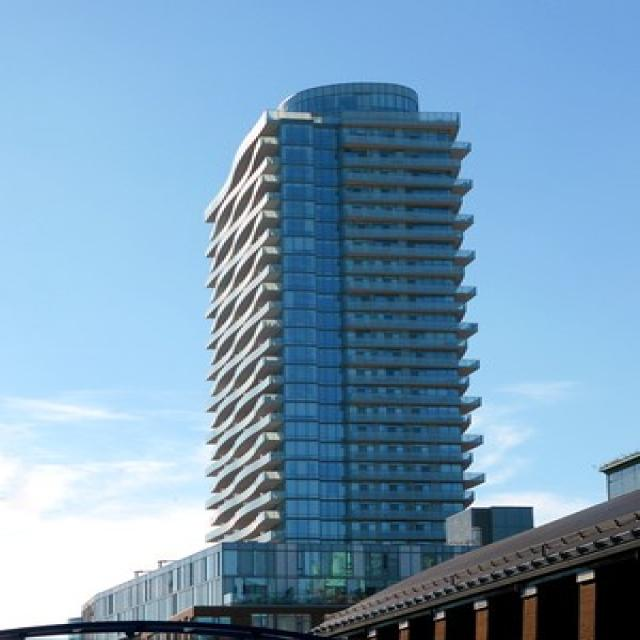building: (194, 76, 493, 550)
